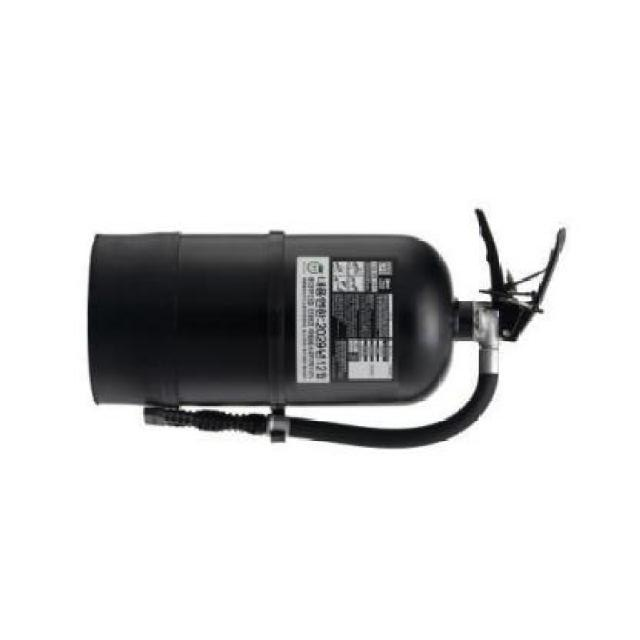fire extinguisher: (86, 208, 569, 449)
